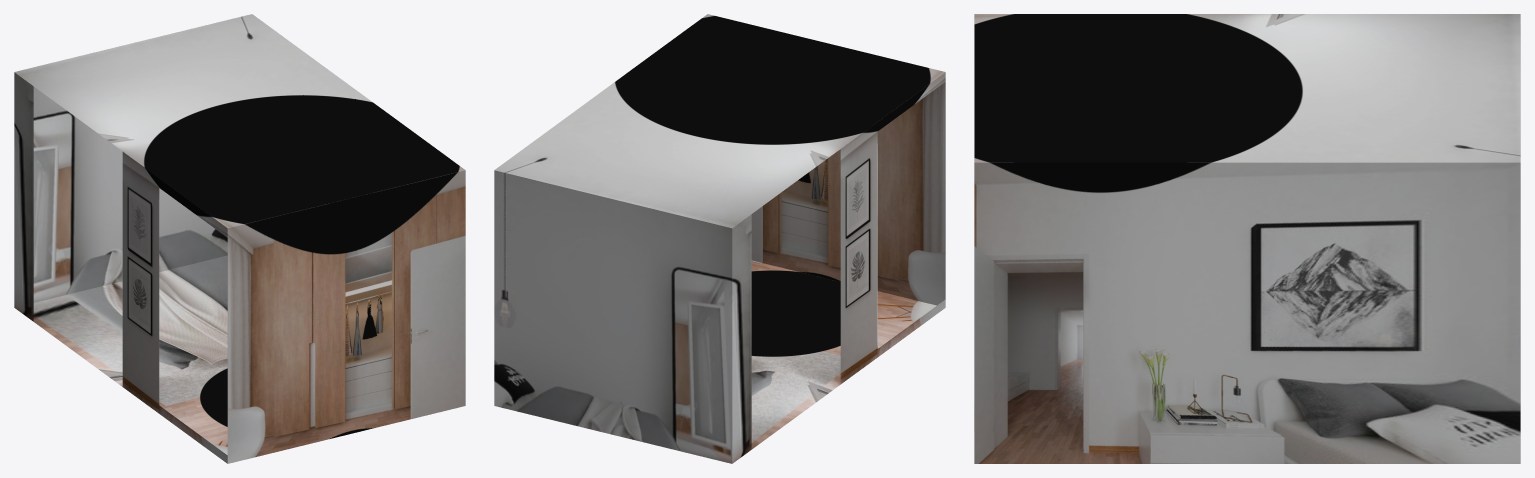
Rendered from room.obj.
The picture shows the model from 3 angles, left to right: view 1: azimuth 30°, elevation 25°; view 2: azimuth 150°, elevation 25°; view 3: azimuth 270°, elevation 25°; orthographic projection. The views are drawn at different scales.
Parts seen in each view (by area): view 1: wall_03, ceiling, wall_01, floor, wall_00; view 2: wall_01, ceiling, wall_03, wall_00, floor; view 3: wall_02, ceiling.
Boxes of the visible parts, <box> form: wall_03: <box>227,170,465,463</box>; ceiling: <box>14,14,465,228</box>; wall_01: <box>33,86,227,302</box>; floor: <box>33,255,227,454</box>; wall_00: <box>14,72,227,463</box>; wall_01: <box>494,170,732,463</box>; ceiling: <box>494,14,945,228</box>; wall_03: <box>751,82,945,305</box>; wall_00: <box>732,72,945,463</box>; floor: <box>751,260,936,449</box>; wall_02: <box>974,162,1520,463</box>; ceiling: <box>974,14,1520,162</box>.
Size of the model in its own units: 3.23 by 3.06 by 5.02.
6 materials, 6 textured.
